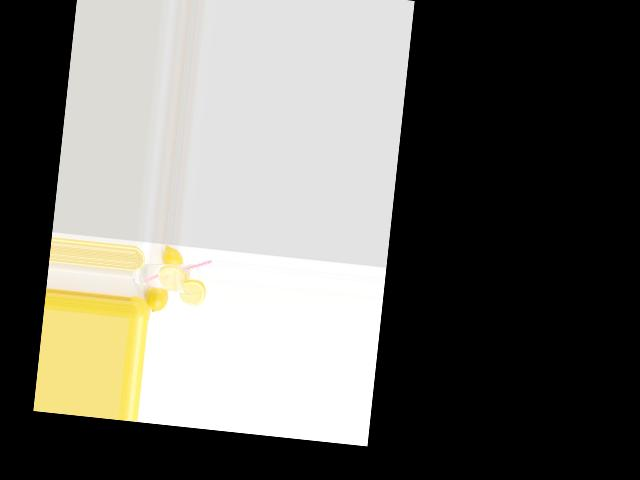lemon: (158, 245, 185, 271)
